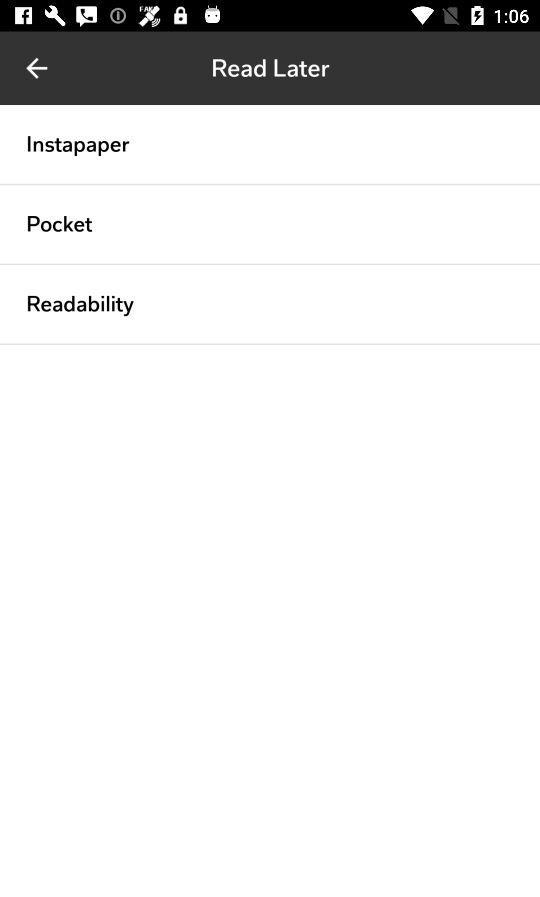Icon: (26, 58, 50, 81)
Text: (28, 295, 136, 318), (213, 59, 331, 79), (28, 136, 131, 158), (28, 216, 94, 234)
Toolbar: (1, 33, 540, 106)
UpperTaskBar: (1, 1, 540, 33)
